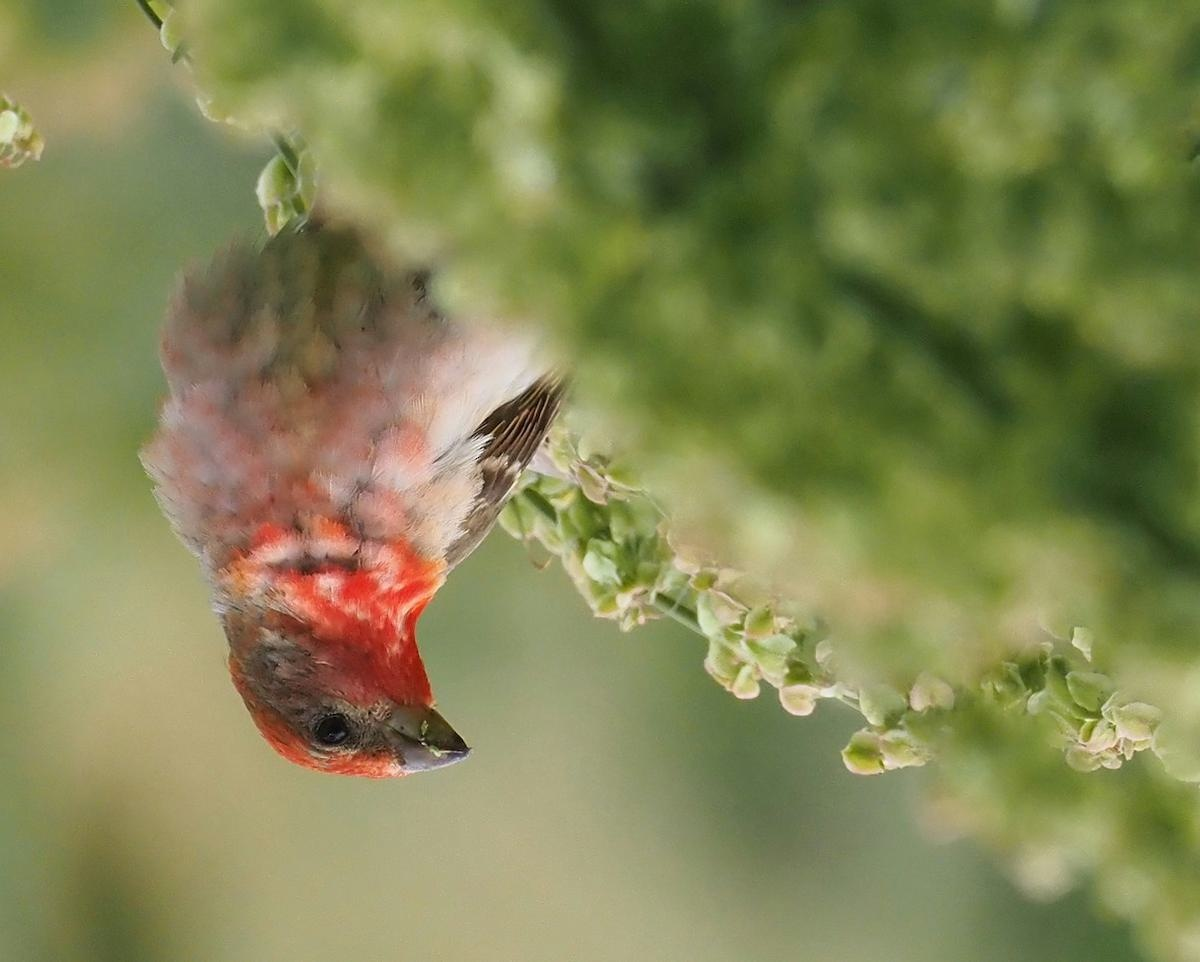rosefinch: (222, 193, 542, 800)
